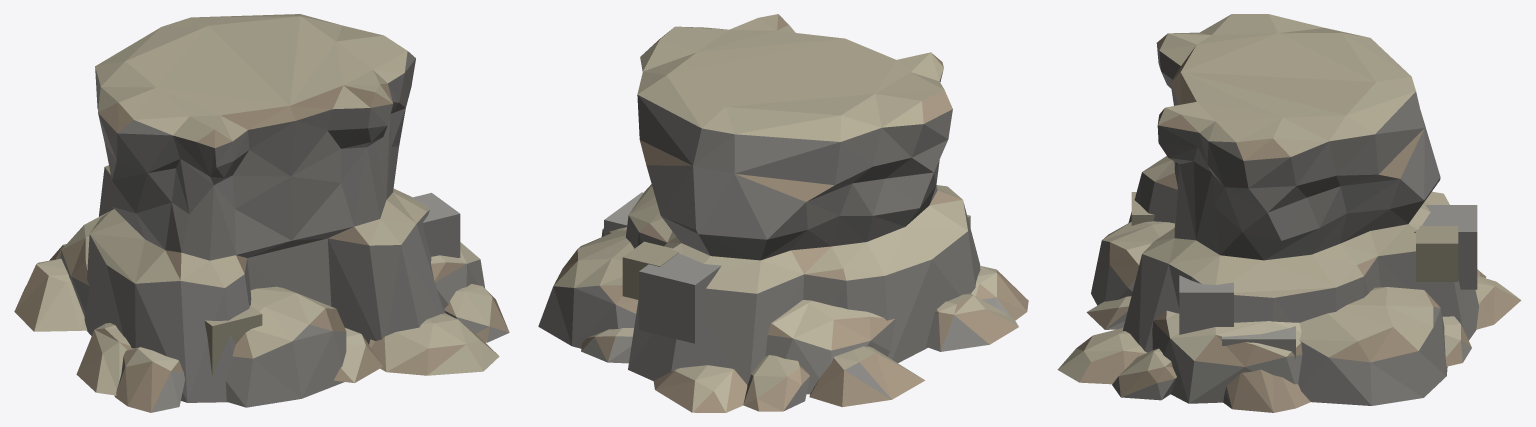
Rendered from hill_01d.glb.
3 renders of one model, left to right at view 1: azimuth 30°, elevation 25°; view 2: azimuth 150°, elevation 25°; view 3: azimuth 270°, elevation 25°, orthographic. The views are drawn at different scales.
Parts seen in each view (by area): view 1: mapa.terreno.colina.env_hill_01d; view 2: mapa.terreno.colina.env_hill_01d; view 3: mapa.terreno.colina.env_hill_01d.
Boxes of the visible parts, x1=… form: mapa.terreno.colina.env_hill_01d: x1=14, y1=14, x2=509, y2=412; mapa.terreno.colina.env_hill_01d: x1=538, y1=14, x2=1028, y2=412; mapa.terreno.colina.env_hill_01d: x1=1057, y1=14, x2=1521, y2=412.
Size of the model in its own units: 6.26 by 3.71 by 6.47.
